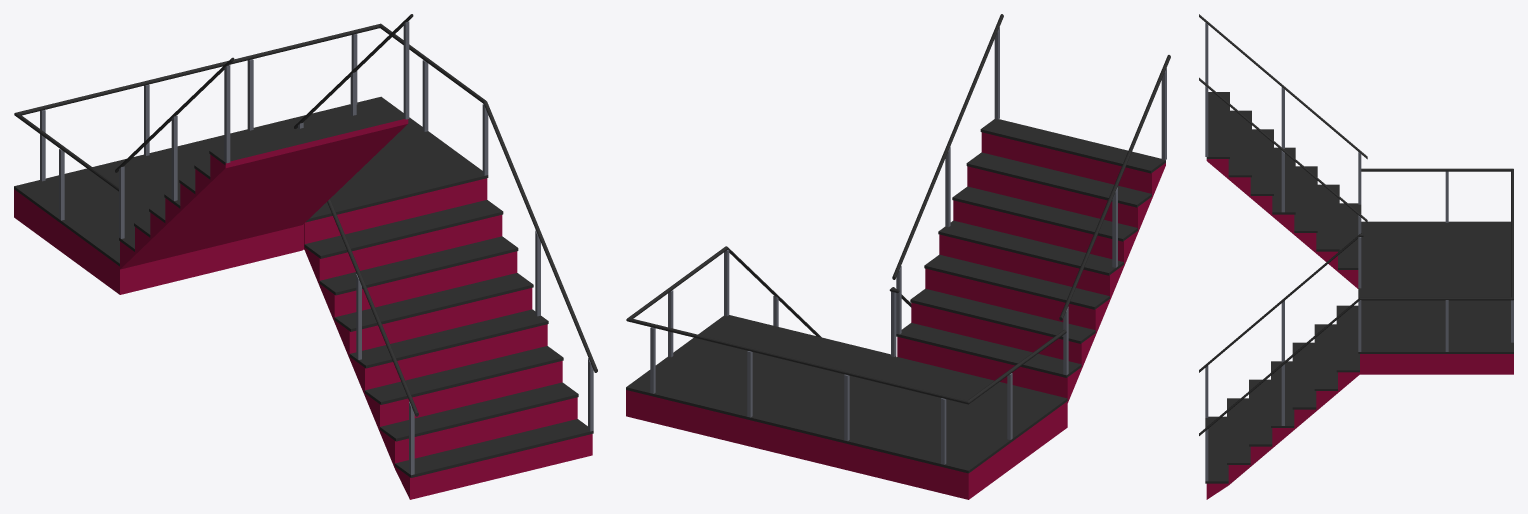
The model's file is UShapeStairs.glb.
The picture shows the model from 3 angles, left to right: view 1: azimuth 30°, elevation 25°; view 2: azimuth 150°, elevation 25°; view 3: azimuth 270°, elevation 25°; orthographic projection. The views are drawn at different scales.
Parts seen in each view (by area): view 1: Stair_UShape; view 2: Stair_UShape; view 3: Stair_UShape.
Boxes of the visible parts, bbox=[...] form: Stair_UShape: bbox=[14, 14, 597, 499]; Stair_UShape: bbox=[626, 14, 1170, 499]; Stair_UShape: bbox=[1199, 14, 1513, 499].
Size of what is drawn, in the model's own units: 4.02 by 5.13 by 4.11.
1 material, 1 textured.
